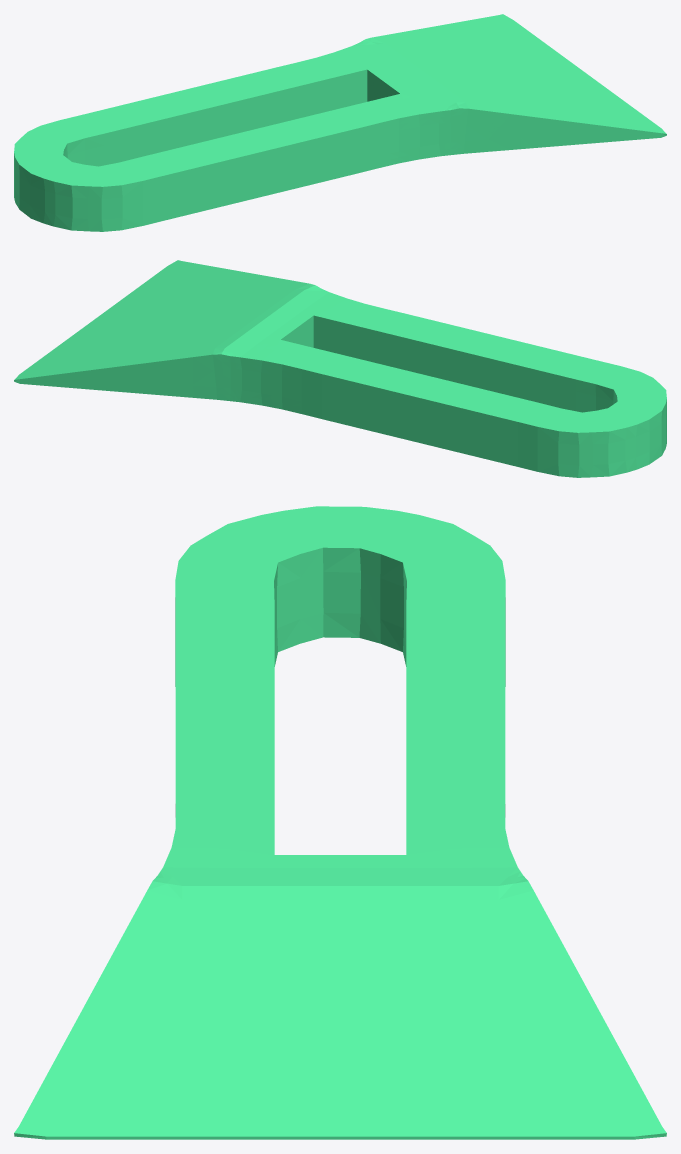
Rendered from plate_cleaner.fbx.
3 renders of one model, top to bottom at view 1: azimuth 30°, elevation 25°; view 2: azimuth 150°, elevation 25°; view 3: azimuth 270°, elevation 25°, orthographic. The views are drawn at different scales.
Parts seen in each view (by area): view 1: 0Plate_Cleaner; view 2: 0Plate_Cleaner; view 3: 0Plate_Cleaner.
Part boxes in pixels (x1,y1,x2,y2): 0Plate_Cleaner: (14,14,666,231); 0Plate_Cleaner: (14,260,666,477); 0Plate_Cleaner: (14,506,666,1139).
Size of the model in its own units: 200 by 15.59 by 101.
